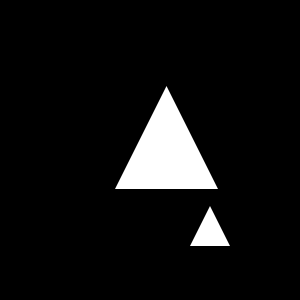triangle: (115, 86, 218, 189), (190, 206, 230, 246)
